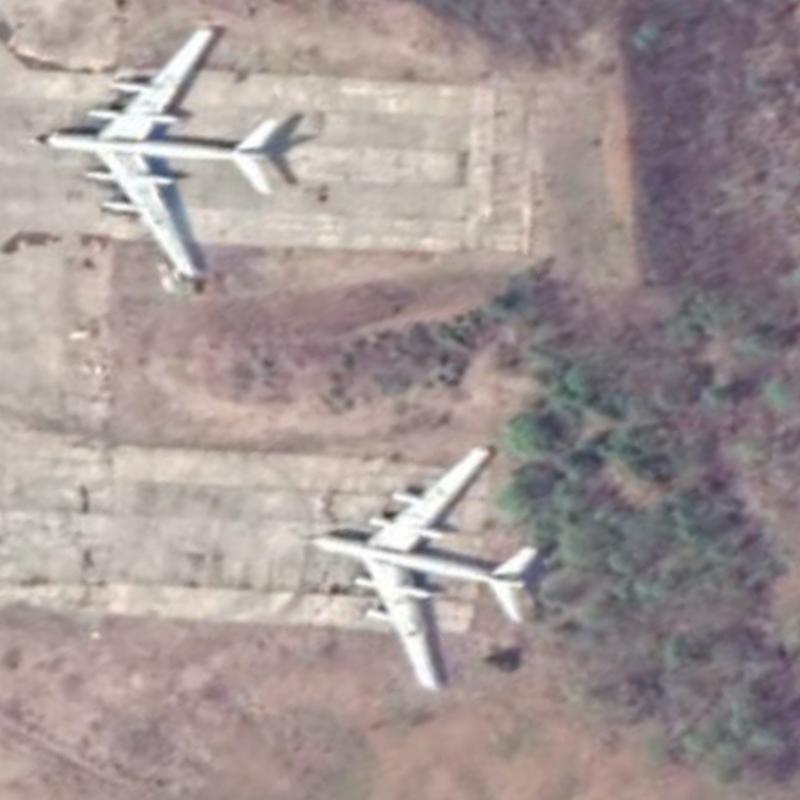A17: (28, 20, 280, 281), (302, 441, 545, 692)
